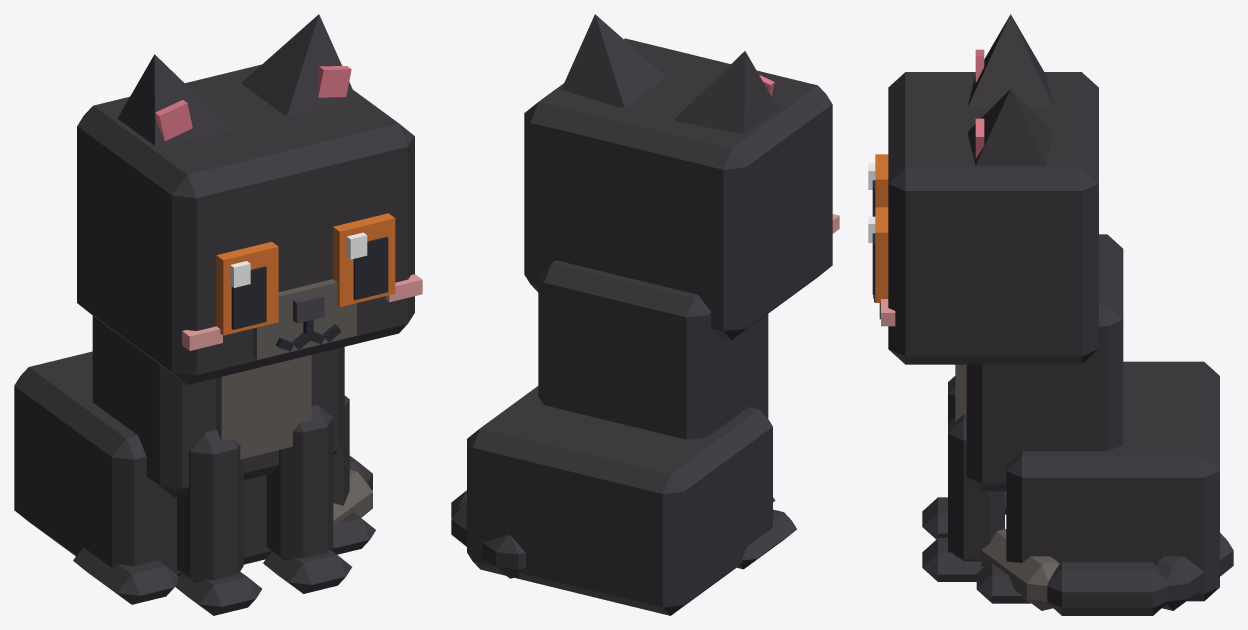
File: CatCafe_Cat_Soot_Sit.glb
3 views of the same model, side by side, from view 1: azimuth 30°, elevation 25°; view 2: azimuth 150°, elevation 25°; view 3: azimuth 270°, elevation 25° (orthographic). The views are drawn at different scales.
Parts seen in each view (by area): view 1: CatCafe_Cat_Soot_Sit_Head, CatCafe_Cat_Soot_Sit_Body, CatCafe_Cat_Soot_Sit_LegF2, CatCafe_Cat_Soot_Sit_LegF1, CatCafe_Cat_Soot_Sit_EarL, CatCafe_Cat_Soot_Sit_EarR, CatCafe_Cat_Soot_Sit_Eye2, CatCafe_Cat_Soot_Sit_Eye1, CatCafe_Cat_Soot_Sit_Tail; view 2: CatCafe_Cat_Soot_Sit_Body, CatCafe_Cat_Soot_Sit_Head, CatCafe_Cat_Soot_Sit_EarL, CatCafe_Cat_Soot_Sit_EarR, CatCafe_Cat_Soot_Sit_Tail; view 3: CatCafe_Cat_Soot_Sit_Head, CatCafe_Cat_Soot_Sit_Body, CatCafe_Cat_Soot_Sit_Tail, CatCafe_Cat_Soot_Sit_LegF1, CatCafe_Cat_Soot_Sit_EarL, CatCafe_Cat_Soot_Sit_EarR, CatCafe_Cat_Soot_Sit_Eye1, CatCafe_Cat_Soot_Sit_LegF2, CatCafe_Cat_Soot_Sit_Eye2.
Part boxes in pixels (<box>): CatCafe_Cat_Soot_Sit_Head: <box>77,64,422,384</box>; CatCafe_Cat_Soot_Sit_Body: <box>14,316,375,604</box>; CatCafe_Cat_Soot_Sit_LegF2: <box>175,429,262,615</box>; CatCafe_Cat_Soot_Sit_LegF1: <box>263,404,351,593</box>; CatCafe_Cat_Soot_Sit_EarL: <box>241,14,355,116</box>; CatCafe_Cat_Soot_Sit_EarR: <box>117,54,232,145</box>; CatCafe_Cat_Soot_Sit_Eye2: <box>216,241,278,335</box>; CatCafe_Cat_Soot_Sit_Eye1: <box>333,213,395,306</box>; CatCafe_Cat_Soot_Sit_Tail: <box>333,456,372,527</box>; CatCafe_Cat_Soot_Sit_Body: <box>467,260,796,615</box>; CatCafe_Cat_Soot_Sit_Head: <box>524,38,839,340</box>; CatCafe_Cat_Soot_Sit_EarL: <box>561,14,665,107</box>; CatCafe_Cat_Soot_Sit_EarR: <box>674,51,778,134</box>; CatCafe_Cat_Soot_Sit_Tail: <box>451,490,525,578</box>; CatCafe_Cat_Soot_Sit_Head: <box>873,72,1098,364</box>; CatCafe_Cat_Soot_Sit_Body: <box>955,234,1219,603</box>; CatCafe_Cat_Soot_Sit_Tail: <box>981,529,1233,615</box>; CatCafe_Cat_Soot_Sit_LegF1: <box>922,414,1004,581</box>; CatCafe_Cat_Soot_Sit_EarL: <box>968,89,1053,165</box>; CatCafe_Cat_Soot_Sit_EarR: <box>968,14,1053,106</box>; CatCafe_Cat_Soot_Sit_Eye1: <box>868,207,888,302</box>; CatCafe_Cat_Soot_Sit_LegF2: <box>922,376,955,539</box>; CatCafe_Cat_Soot_Sit_Eye2: <box>868,154,888,216</box>.
Bounding box in the file's own units: 1.05 × 1.85 × 1.22.
Materials: 1 (1 with a texture image).
